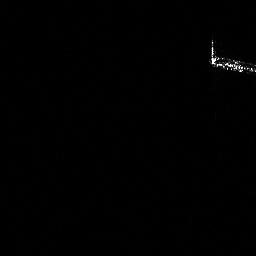ship: (210, 42, 255, 71)
